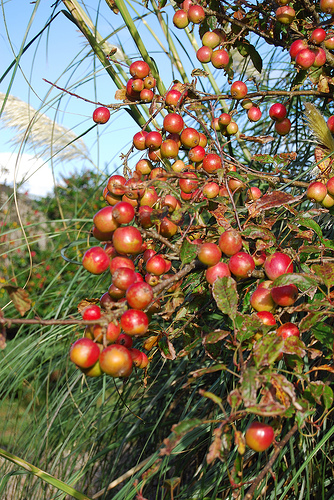apple: (244, 422, 279, 454), (110, 226, 146, 256), (99, 345, 132, 377), (227, 250, 257, 280), (161, 113, 186, 133)
